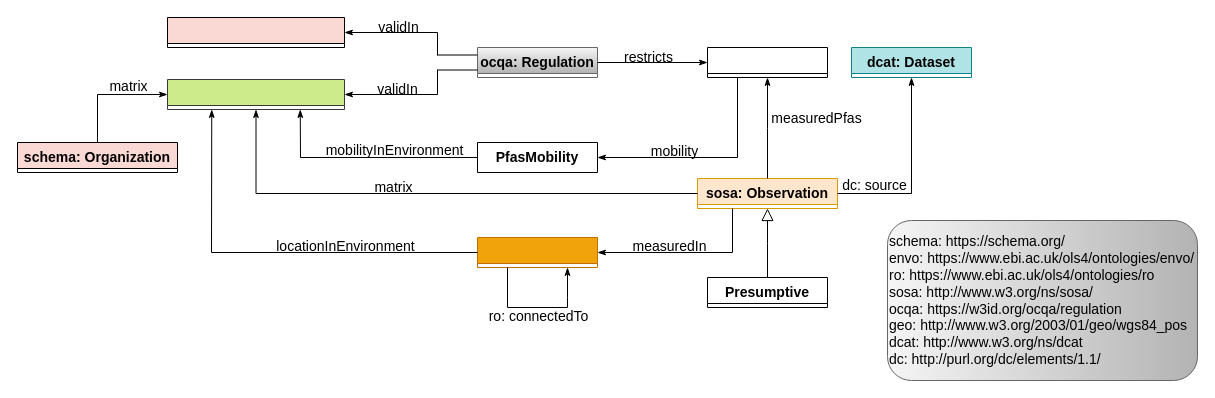
The diagram is 1215 pixels wide and 398 high, and some of its shapes have lost their labels. The centre of each missing label's shape, as x and y in pixels:
"envo: EnvironmentalZone" goes at point (255, 94).
"geo: Location" goes at point (537, 252).
"Pfas" goes at point (767, 62).
"schema: Place" goes at point (255, 32).
